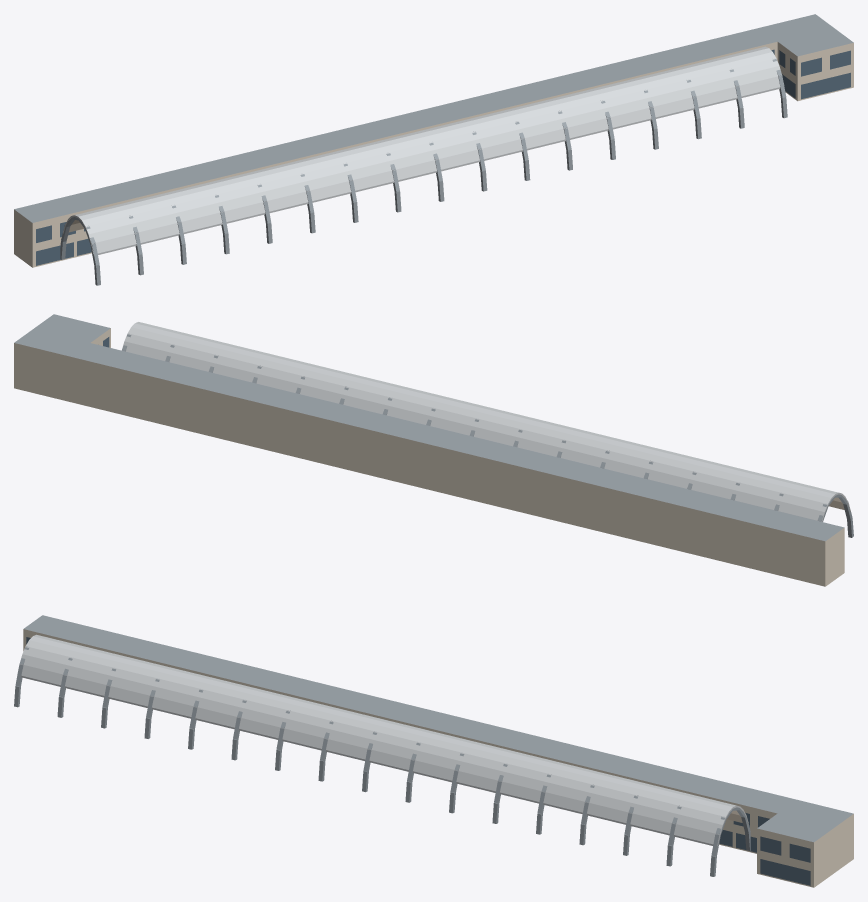
The model's file is dubai-dxb-terminal-3.glb.
3 views of the same model, one above another, from view 1: azimuth 30°, elevation 25°; view 2: azimuth 150°, elevation 25°; view 3: azimuth 330°, elevation 25° (orthographic).
Visible parts, largest first — view 1: Dubai International Airport Terminal 3; view 2: Dubai International Airport Terminal 3; view 3: Dubai International Airport Terminal 3.
Boxes of the visible parts, bbox=[...] form: Dubai International Airport Terminal 3: bbox=[14, 14, 853, 285]; Dubai International Airport Terminal 3: bbox=[14, 314, 853, 586]; Dubai International Airport Terminal 3: bbox=[14, 615, 853, 887].
Size of the model in its own units: 299 by 20.6 by 36.07.
